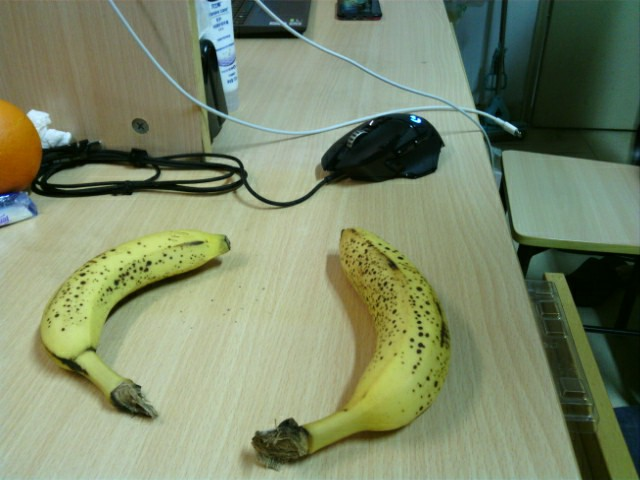normal_banana: (251, 228, 449, 469), (39, 229, 231, 422)
